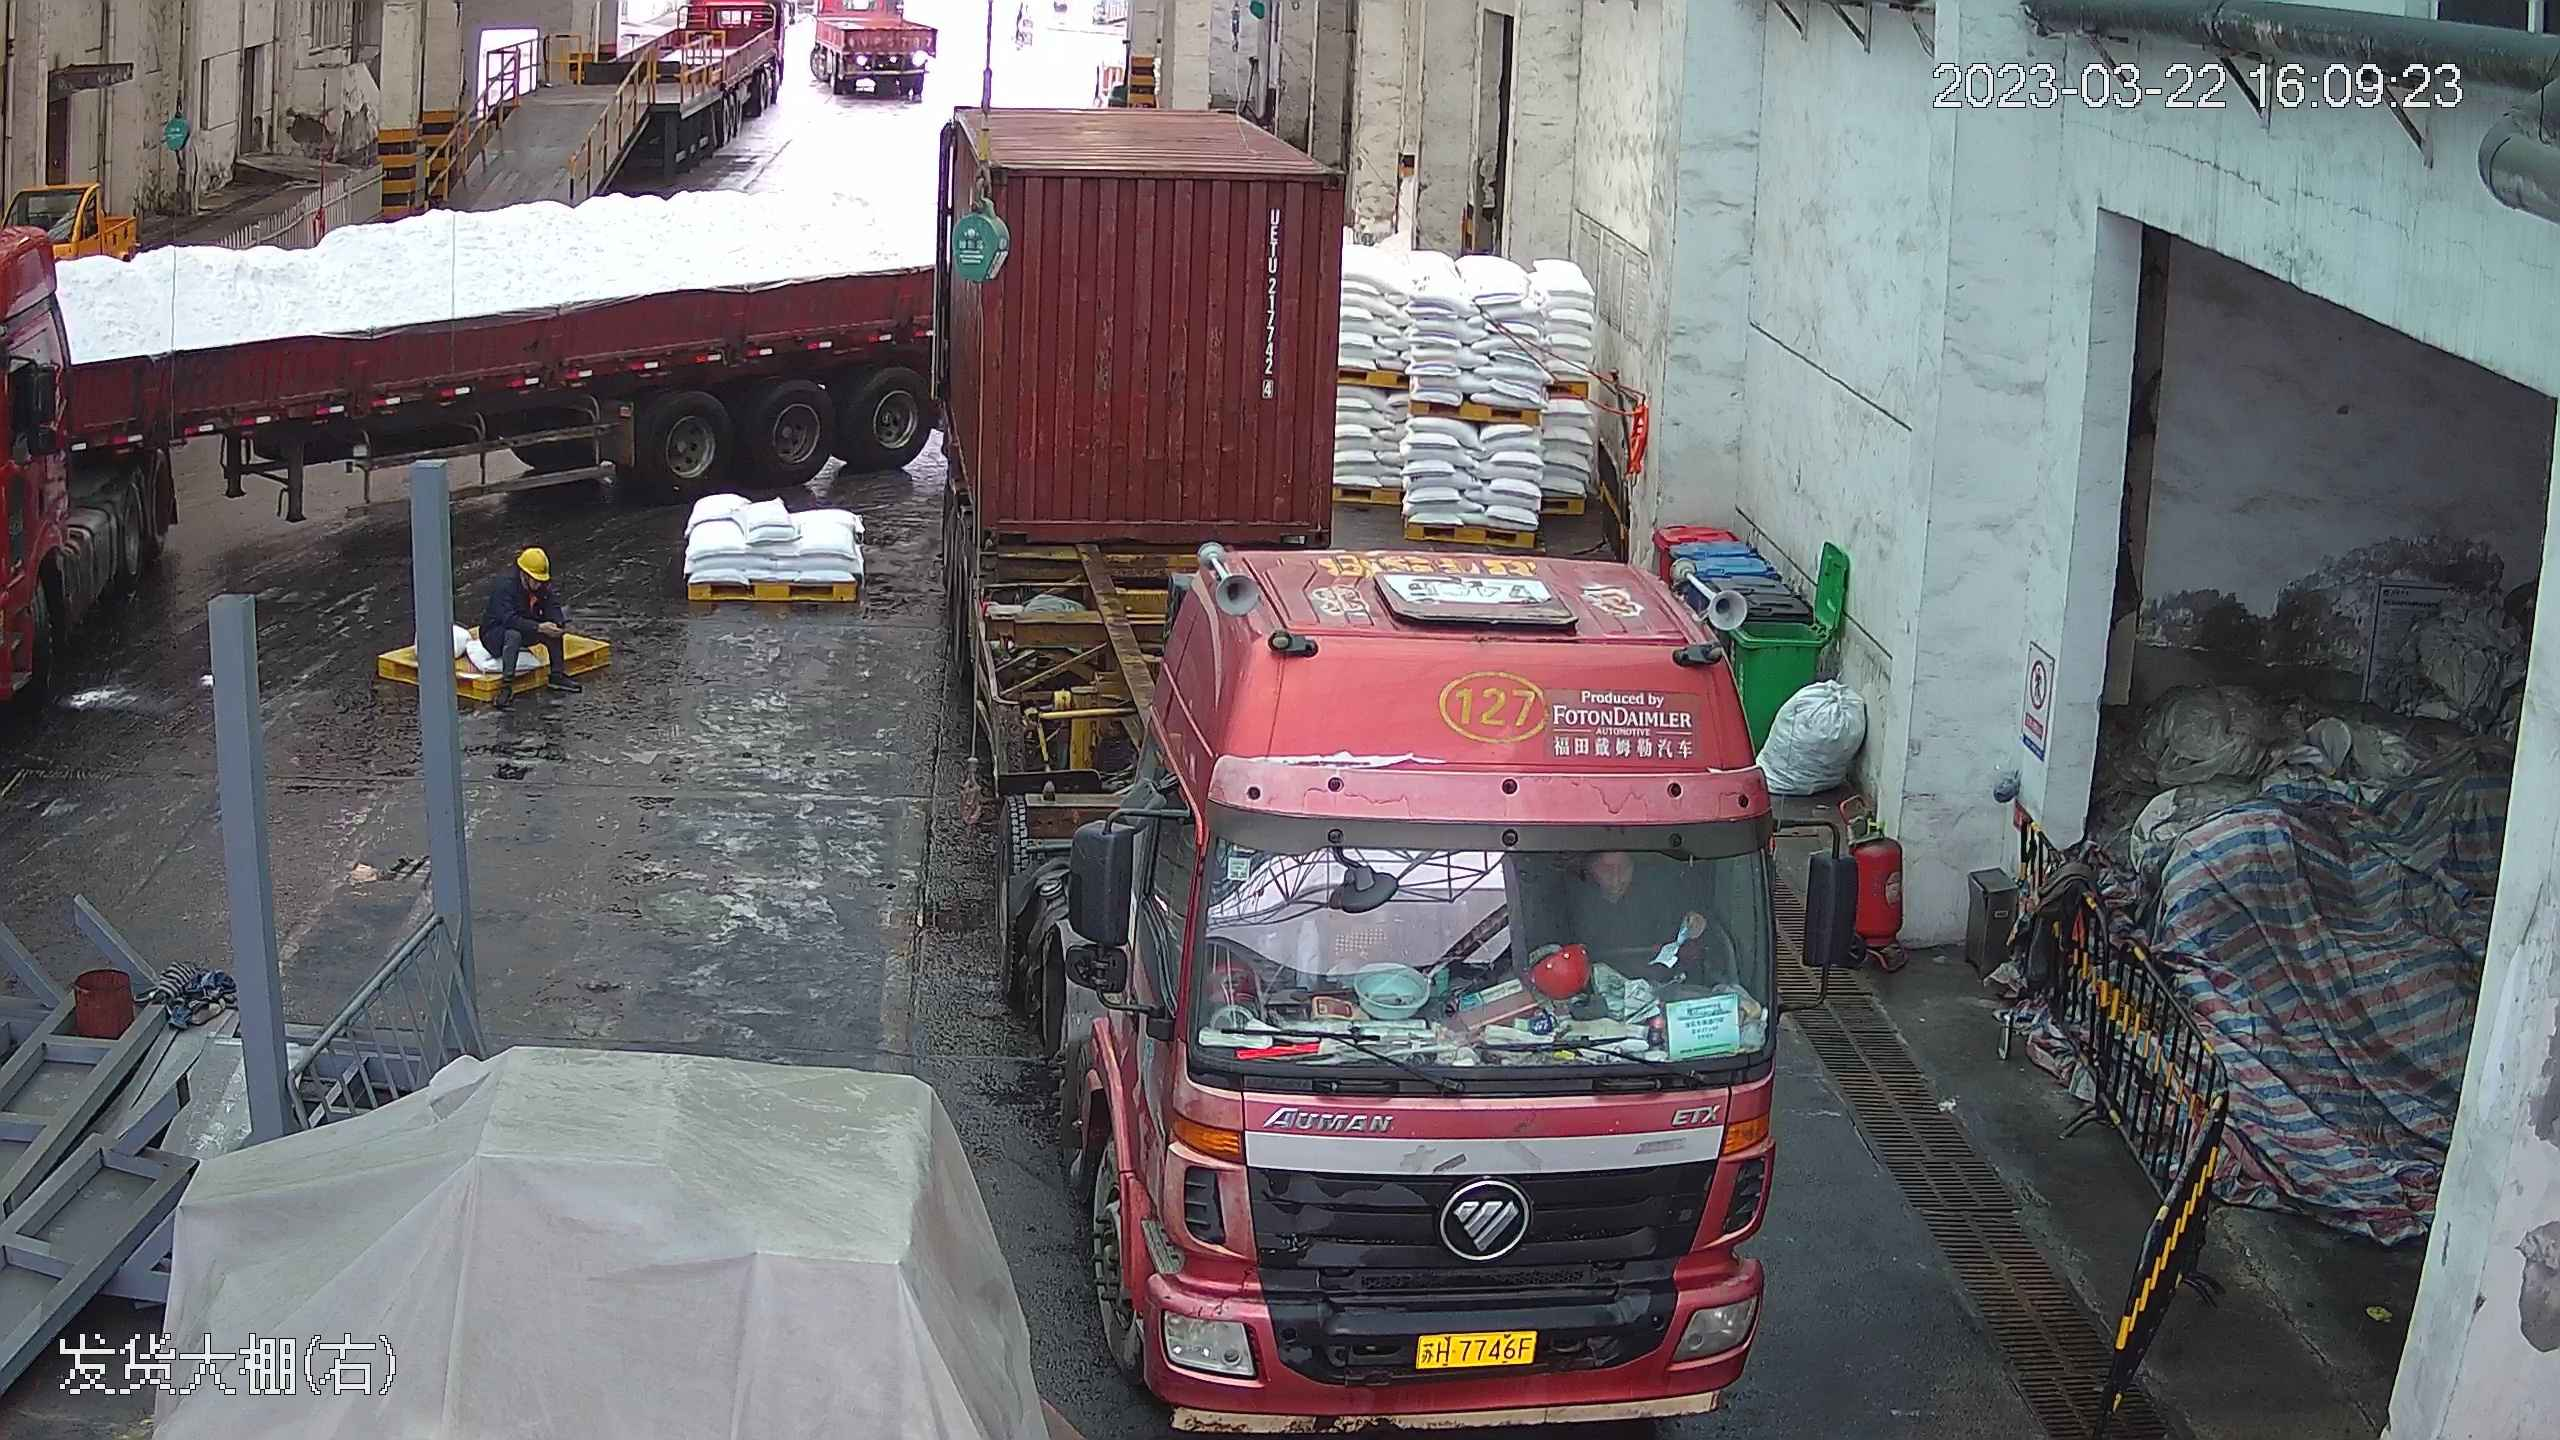head: (492, 544, 554, 609)
helmet: (514, 543, 550, 578)
people: (483, 538, 563, 703)
truck: (941, 19, 1802, 1432), (2, 130, 942, 750)
